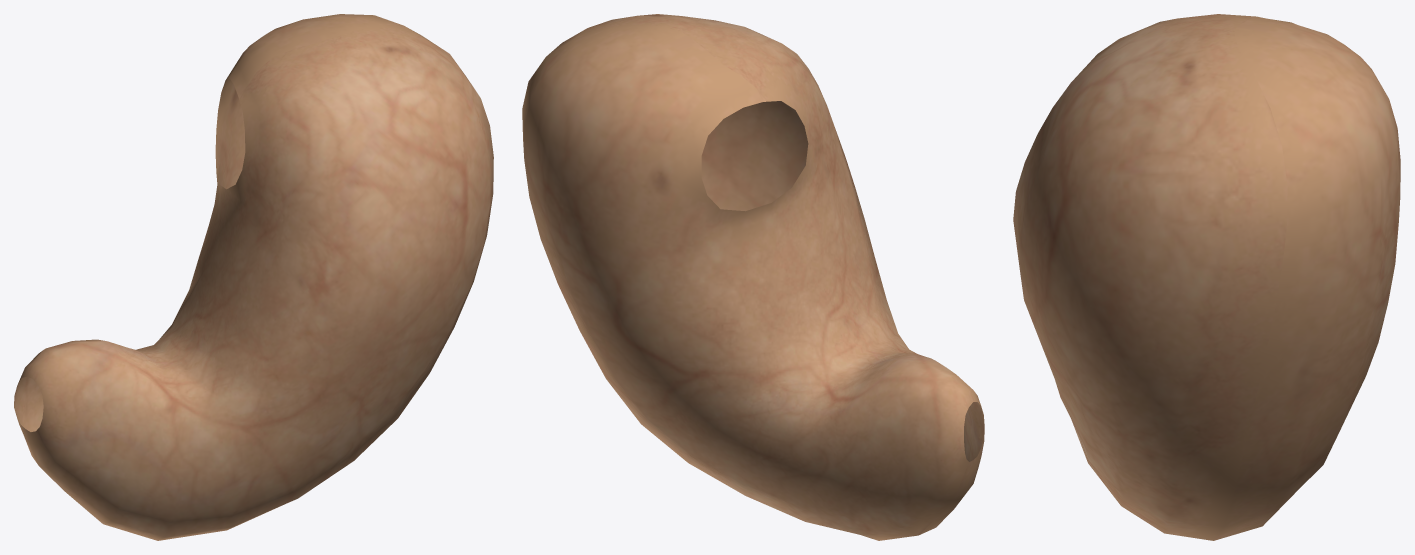
Rendered from stomach_texture.fbx.
The picture shows the model from 3 angles, left to right: view 1: azimuth 30°, elevation 25°; view 2: azimuth 150°, elevation 25°; view 3: azimuth 270°, elevation 25°; orthographic projection. The views are drawn at different scales.
Visible parts, largest first — view 1: polySurface4; view 2: polySurface4; view 3: polySurface4.
Boxes of the visible parts, box(x1,y1,x2,y2) form: polySurface4: box(14, 14, 493, 540); polySurface4: box(522, 14, 984, 540); polySurface4: box(1013, 14, 1400, 540).
Size of the model in its own units: 4.78 by 4.69 by 2.91.
1 material, 1 textured.
